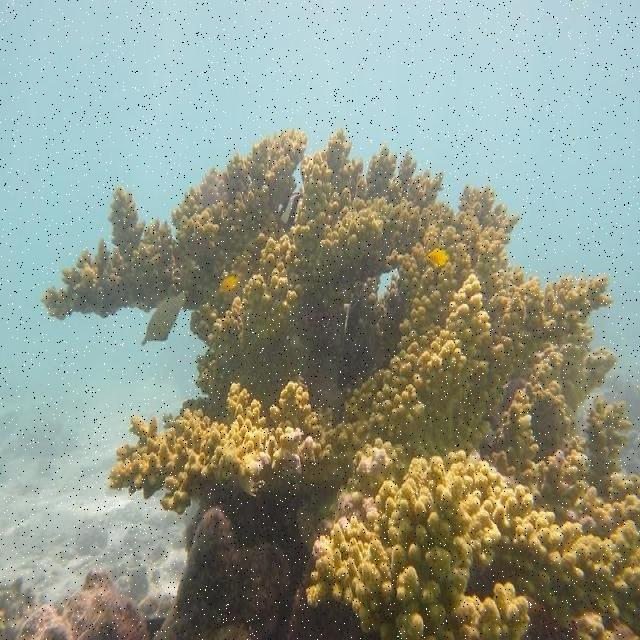aquatic plants: (45, 129, 639, 638)
fish: (144, 307, 178, 343)
sea-floor: (18, 512, 380, 639)
